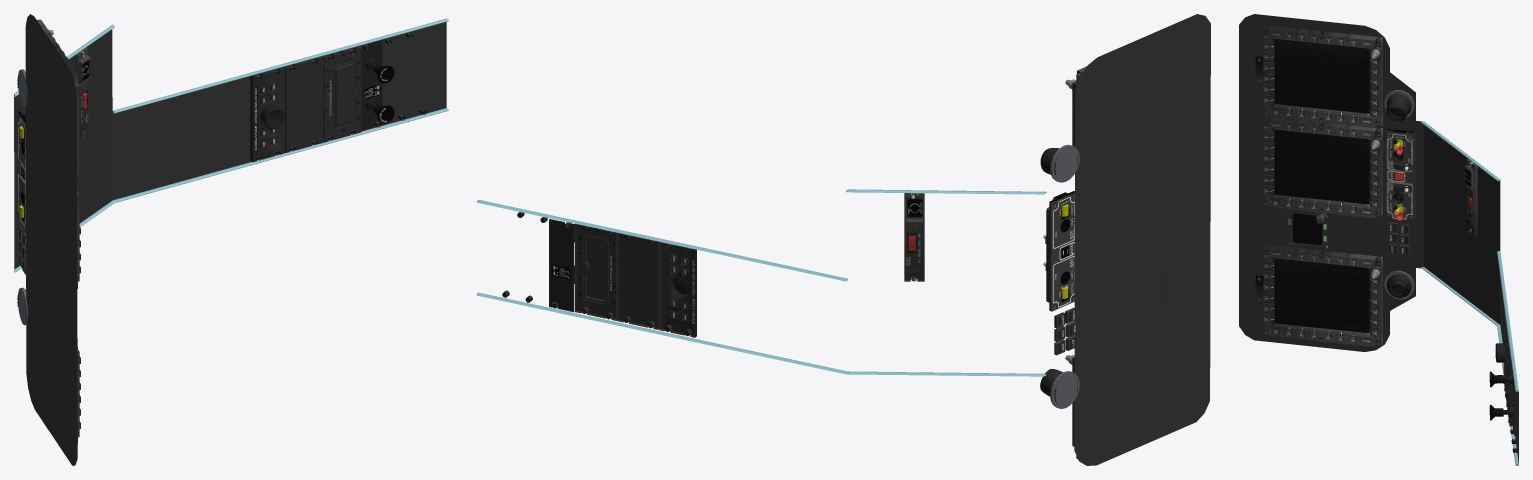
The model's file is ec145-main-panel.gltf.
3 renders of one model, left to right at view 1: azimuth 30°, elevation 25°; view 2: azimuth 150°, elevation 25°; view 3: azimuth 270°, elevation 25°, orthographic. The views are drawn at different scales.
Parts seen in each view (by area): view 1: panel, dtd, emptypanel.000, rail, euronav, cabinheat, elt, Face, xmfd0bezel; view 2: panel, rail, emptypanel.000, dtd, euronav, Face, cabinheat, elt, vent1, vent0; view 3: panel, xmfd2screen, xmfd1screen, xmfd0screen, xmfd0bezel, xmfd2bezel, xmfd1bezel, Face, rail, xmfd0glass, elt, xmfd3screen (+7 smaller).
Boxes of the visible parts, x1=… form: panel: x1=14, y1=14, x2=446, y2=465; dtd: x1=322, y1=46, x2=361, y2=142; emptypanel.000: x1=283, y1=56, x2=323, y2=152; rail: x1=14, y1=18, x2=448, y2=272; euronav: x1=250, y1=67, x2=284, y2=162; cabinheat: x1=360, y1=39, x2=394, y2=129; elt: x1=74, y1=48, x2=89, y2=138; Face: x1=17, y1=111, x2=25, y2=228; xmfd0bezel: x1=37, y1=19, x2=80, y2=179; panel: x1=1074, y1=14, x2=1210, y2=465; rail: x1=477, y1=189, x2=1046, y2=376; emptypanel.000: x1=616, y1=232, x2=659, y2=329; dtd: x1=574, y1=223, x2=616, y2=320; euronav: x1=659, y1=242, x2=696, y2=337; Face: x1=1046, y1=191, x2=1074, y2=311; cabinheat: x1=549, y1=219, x2=574, y2=312; elt: x1=904, y1=193, x2=924, y2=281; vent1: x1=1040, y1=369, x2=1079, y2=408; vent0: x1=1040, y1=144, x2=1079, y2=182; panel: x1=1239, y1=14, x2=1518, y2=463; xmfd2screen: x1=1275, y1=258, x2=1368, y2=332; xmfd1screen: x1=1275, y1=130, x2=1368, y2=203; xmfd0screen: x1=1276, y1=39, x2=1368, y2=113; xmfd0bezel: x1=1263, y1=25, x2=1382, y2=127; xmfd2bezel: x1=1263, y1=244, x2=1382, y2=347; xmfd1bezel: x1=1263, y1=116, x2=1382, y2=218; Face: x1=1386, y1=129, x2=1415, y2=220; rail: x1=1421, y1=121, x2=1518, y2=465; xmfd0glass: x1=1276, y1=40, x2=1368, y2=103; elt: x1=1464, y1=159, x2=1477, y2=235; xmfd3screen: x1=1293, y1=213, x2=1322, y2=244.
Size of what is drawn, in the model's own units: 1.13 by 0.7877 by 0.6124.
Materials: 17 (11 with a texture image).
